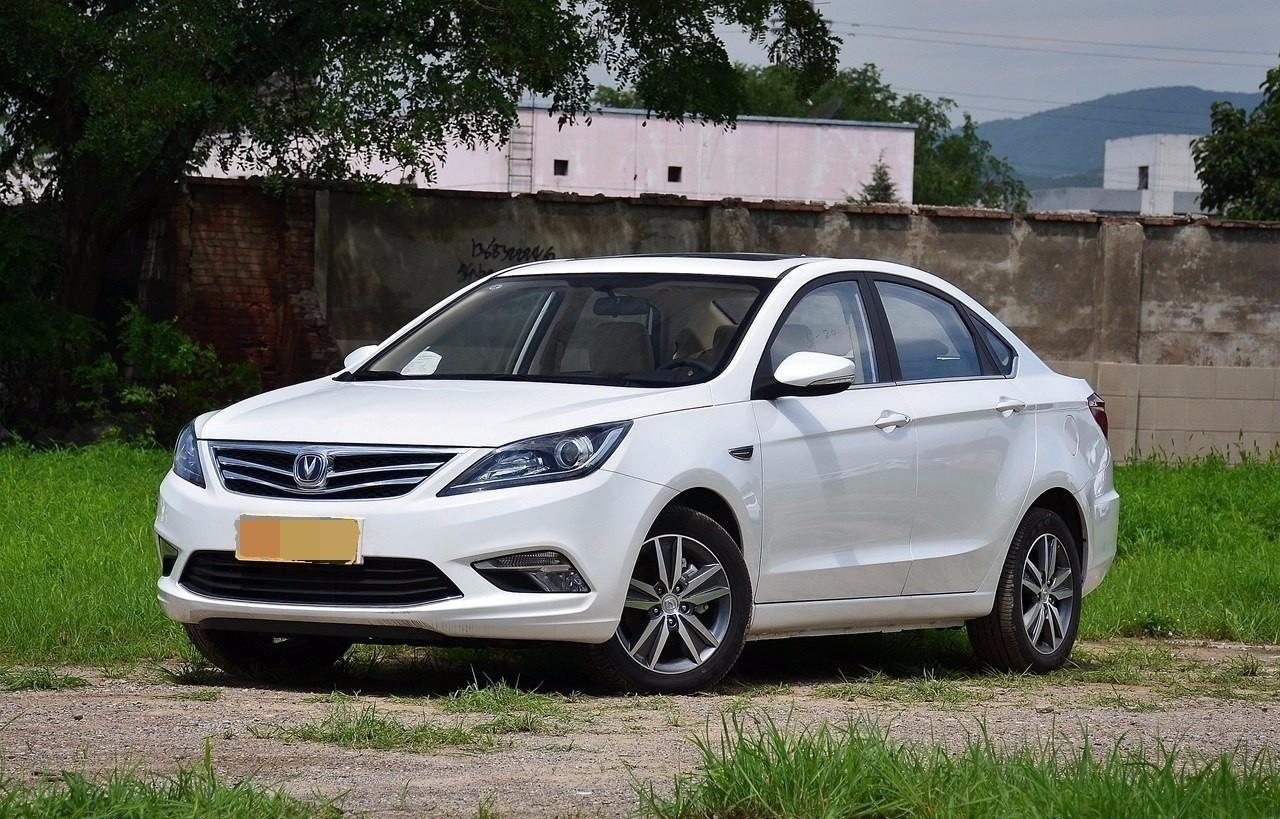family sedan: (153, 198, 1133, 689)
